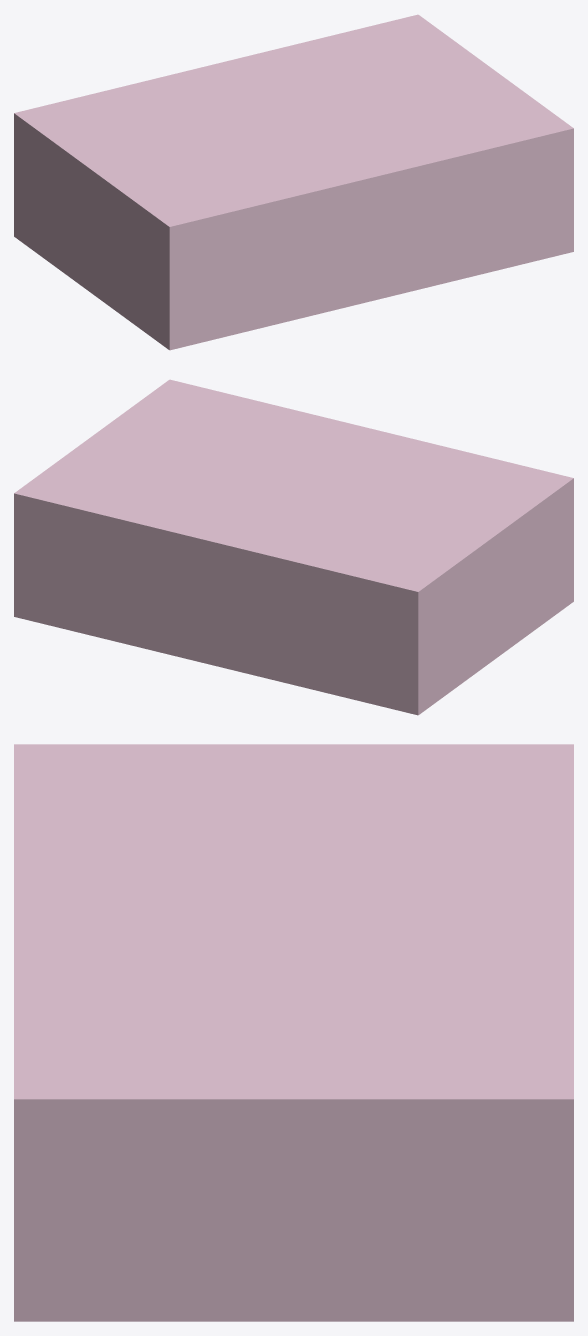
Rendered from ball_land.glb.
3 renders of one model, top to bottom at view 1: azimuth 30°, elevation 25°; view 2: azimuth 150°, elevation 25°; view 3: azimuth 270°, elevation 25°, orthographic. The views are drawn at different scales.
Visible parts, largest first — view 1: world_geometry; view 2: world_geometry; view 3: world_geometry.
Boxes of the visible parts, x1,y1,x2,y2 form: world_geometry: (14,14,573,350); world_geometry: (14,379,573,715); world_geometry: (14,744,573,1321).
Size of the model in its own units: 58.52 by 17.07 by 39.01.
